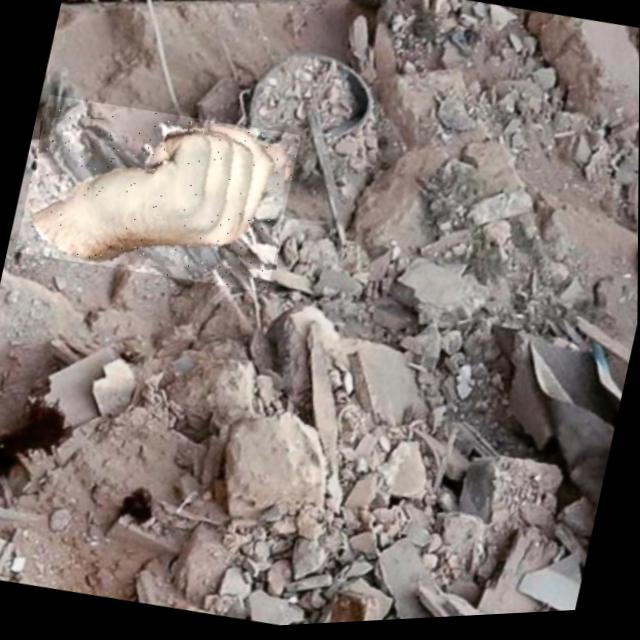Person in Rubble: (14, 85, 300, 305)
